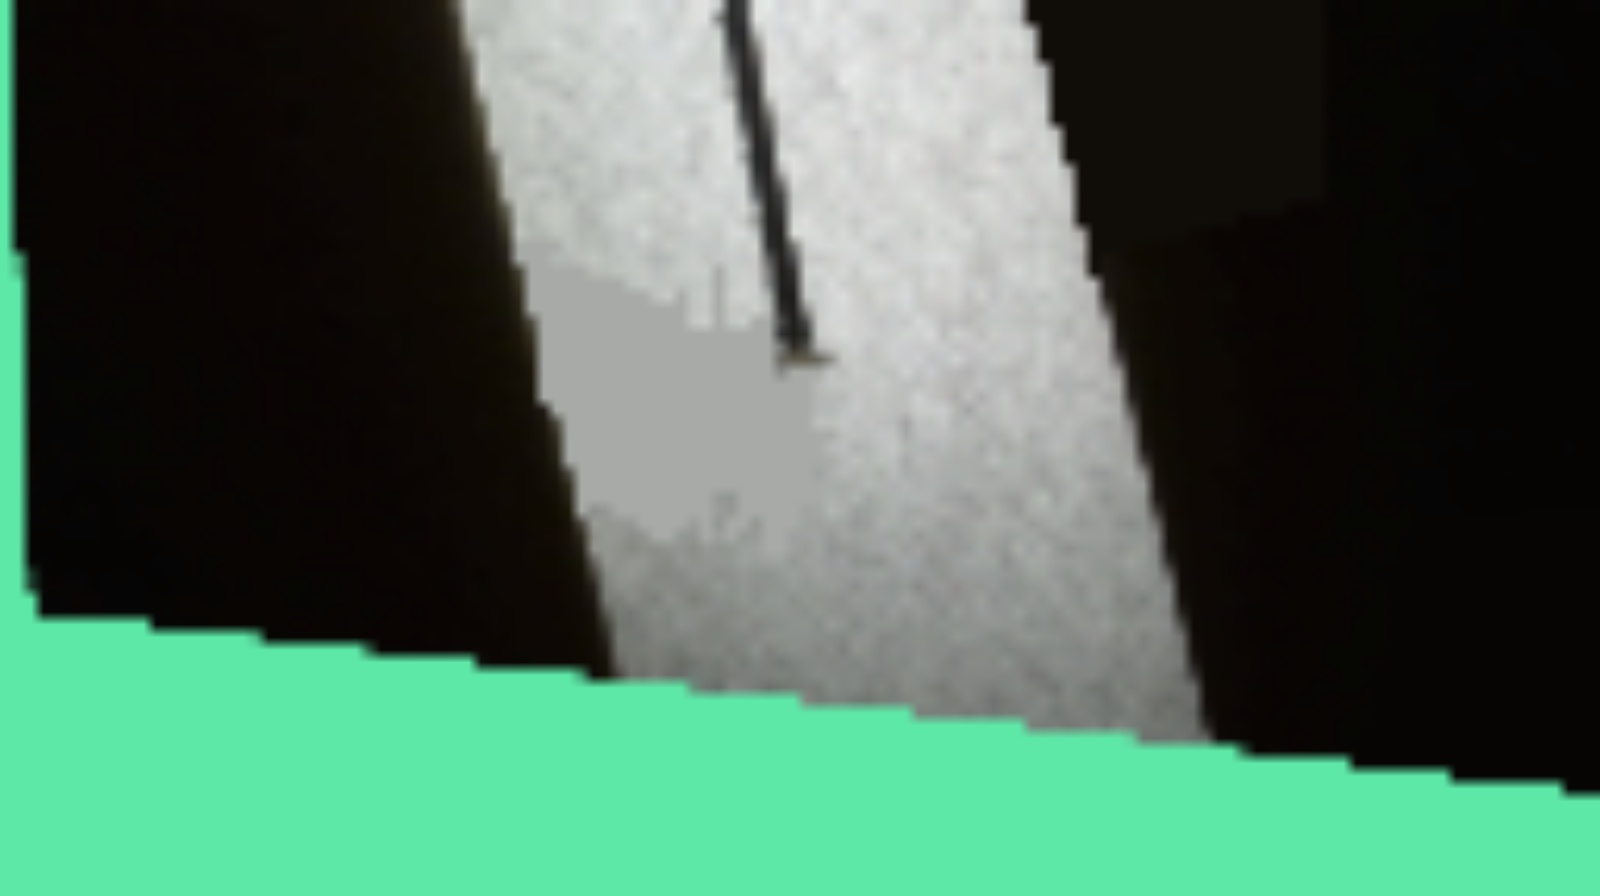S002: (689, 0, 854, 392)
